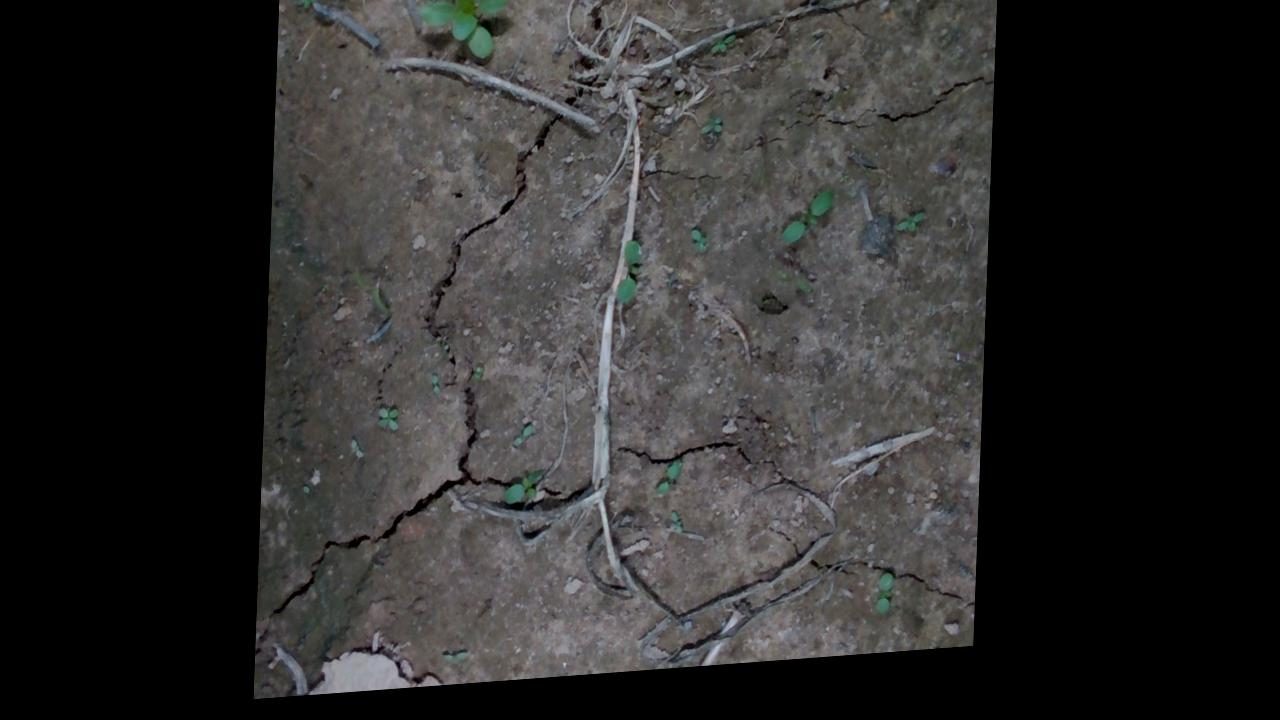weed: (781, 193, 846, 264), (503, 460, 565, 524), (652, 461, 701, 512), (618, 249, 644, 316), (873, 579, 906, 631), (891, 219, 939, 253), (693, 129, 741, 151), (683, 238, 717, 267), (425, 378, 453, 404), (376, 415, 407, 438)
